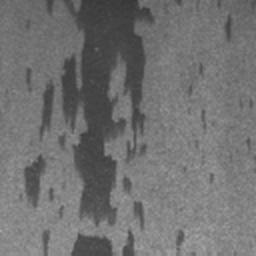Red iron sheet: (24, 0, 156, 256), (23, 154, 54, 206), (175, 229, 186, 255), (224, 14, 233, 42), (42, 230, 50, 256), (200, 110, 207, 129), (246, 137, 252, 156), (187, 84, 193, 95), (200, 64, 205, 73)
